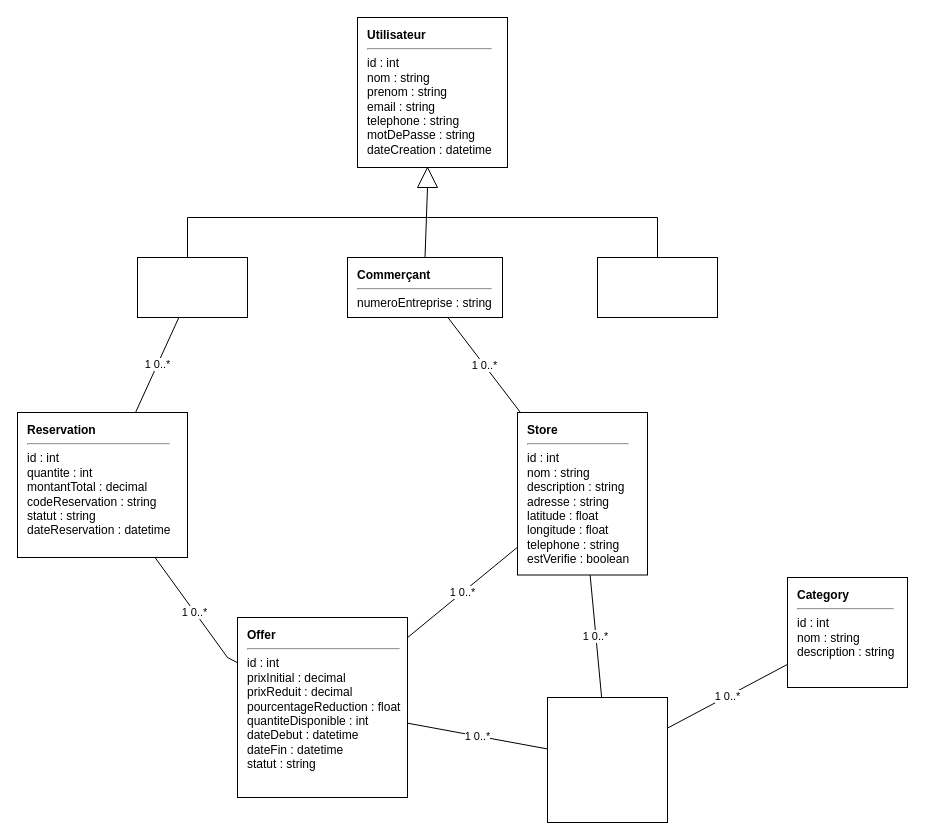
This 925x840 diagram has some shape labels left out. Each missing label, with the box of its shape:
Administrateur matricule : string: (596, 256, 718, 318)
Consommateur position : string: (136, 256, 248, 318)
Product id : int nom : string description : string image : string unite : string: (546, 696, 668, 822)
